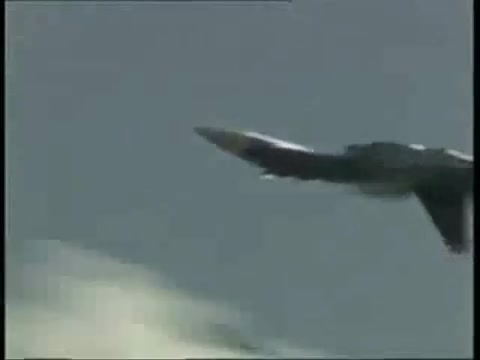aeroplane: (196, 126, 475, 255)
